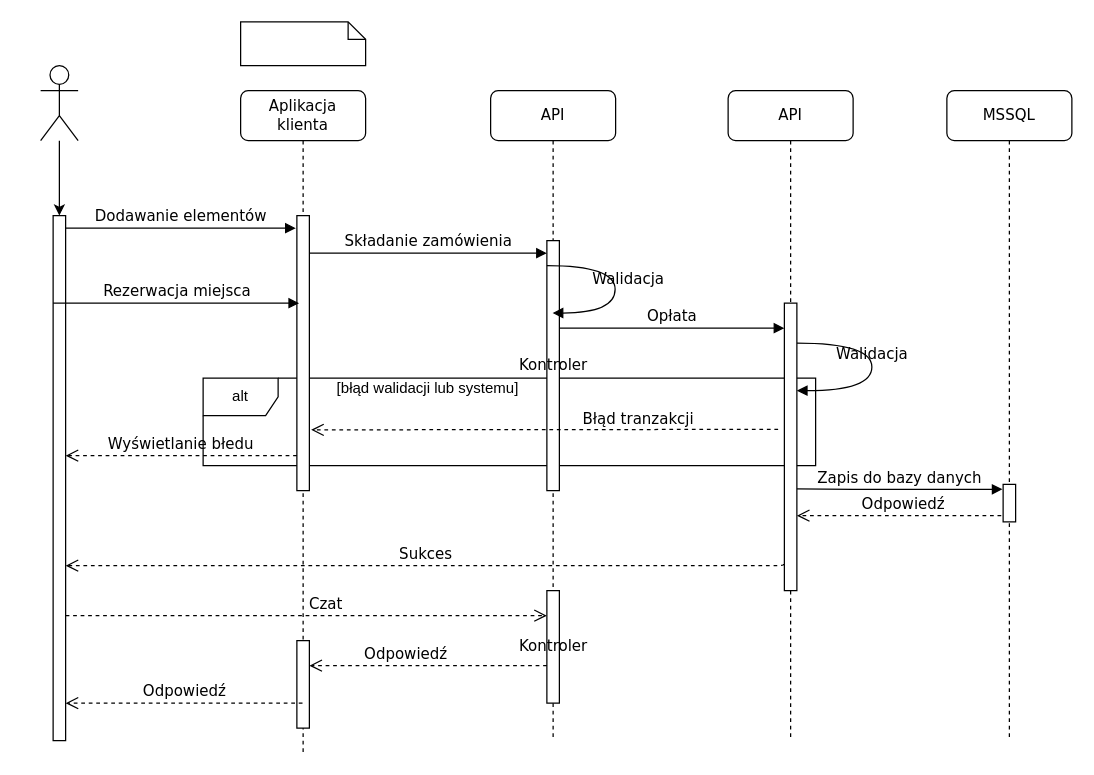
Image size: 1094x775. Some labels were removed from this diagram. Each missing label, with the centre of its shape:
Użytkownik: the point at 58,102
Xamarin \ Angular: the point at 302,43
